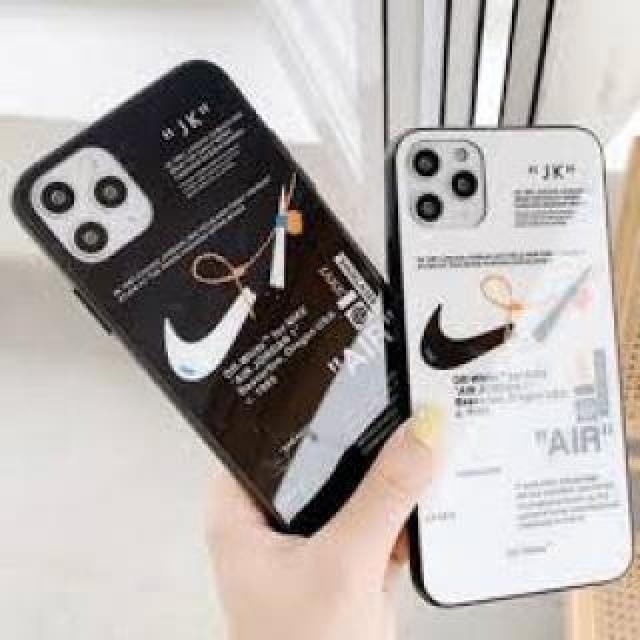smart phone: (8, 77, 377, 613), (385, 113, 633, 630)
